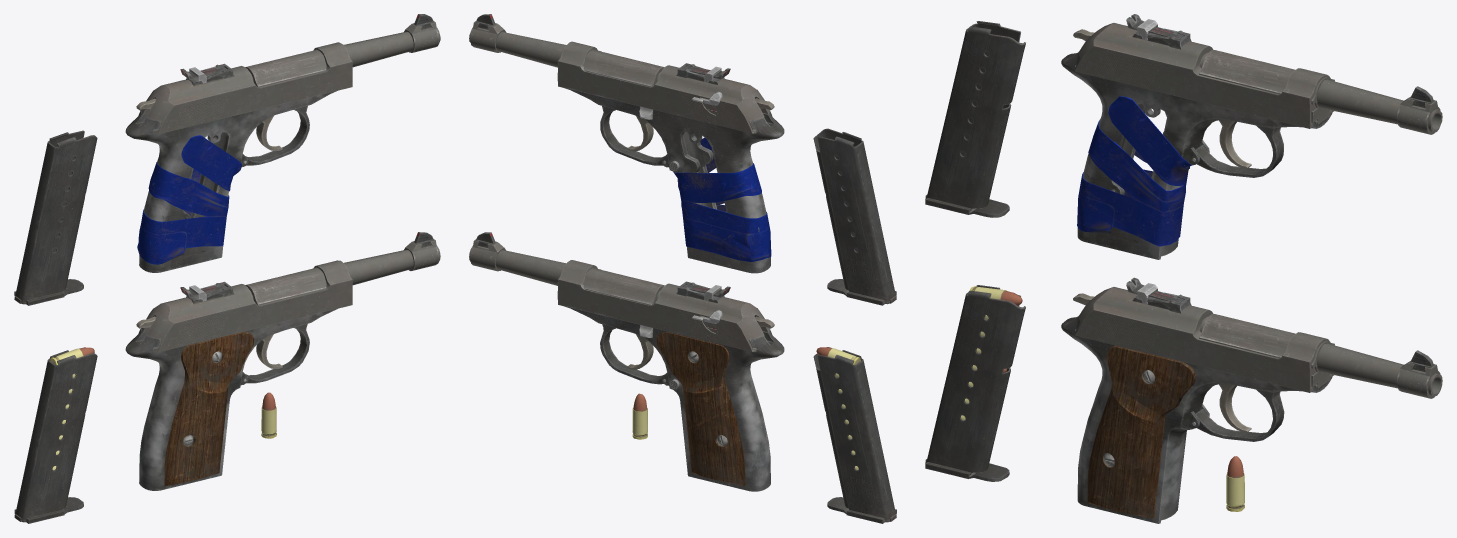
The model's file is service_pistol.glb.
3 views of the same model, side by side, from view 1: azimuth 30°, elevation 25°; view 2: azimuth 150°, elevation 25°; view 3: azimuth 330°, elevation 25° (orthographic). The views are drawn at different scales.
Parts seen in each view (by area): view 1: service_pistol_pistol_a; view 2: service_pistol_pistol_a; view 3: service_pistol_pistol_a.
Boxes of the visible parts, x1,y1,x2,y2 form: service_pistol_pistol_a: (14, 14, 440, 523); service_pistol_pistol_a: (469, 14, 896, 523); service_pistol_pistol_a: (925, 14, 1442, 523).
Size of the model in its own units: 0.3016 by 0.2807 by 0.0318.
Materials: 1 (1 with a texture image).
